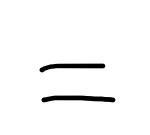eqv: (39, 59, 121, 105)
